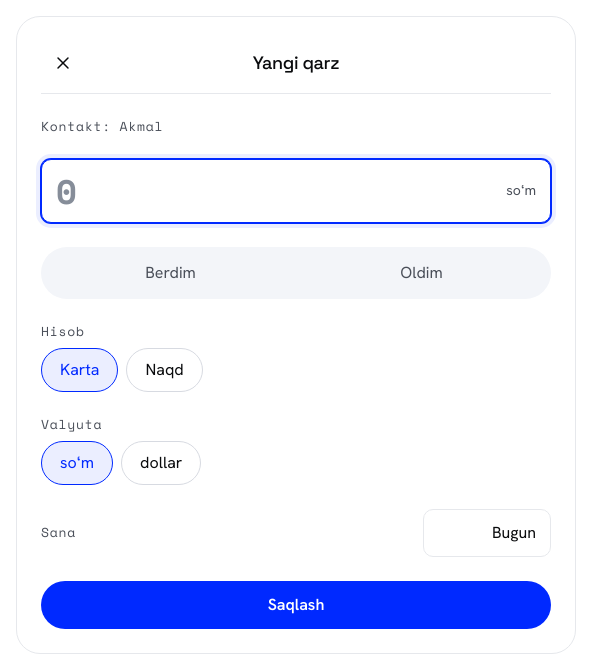
terish qoidalari (mezon 19, 20; 0033) › mezon 19 — soʻmda kasr belgisi maydonga tushmaydi
In the field named "Summa": (277, 191) [56,160,498,222], type "12,50"
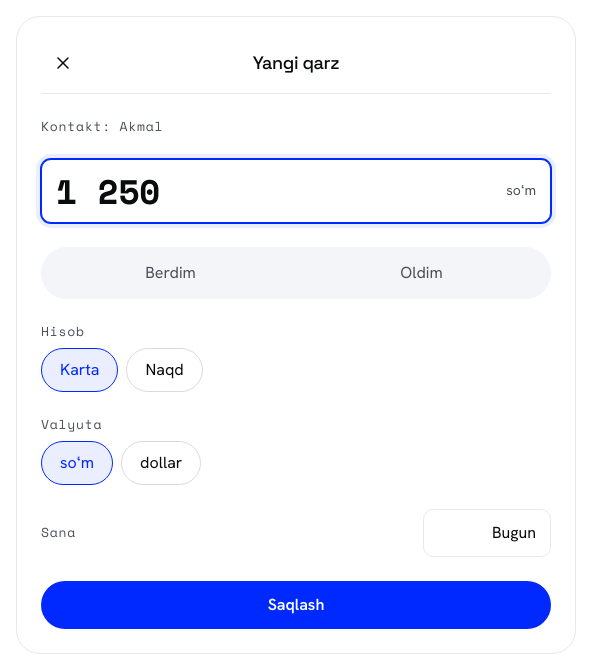
Check: the field named "Summa" holds "1 250", box [56,160,498,222]
